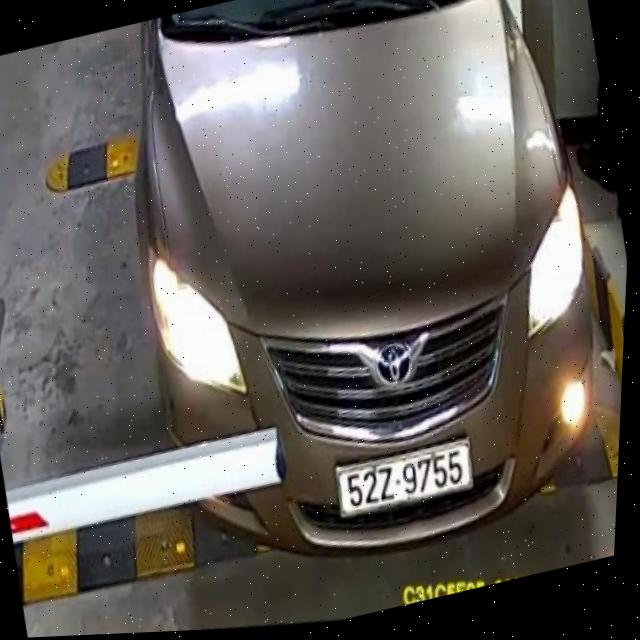car: (68, 0, 640, 612)
plate: (326, 426, 485, 526)
